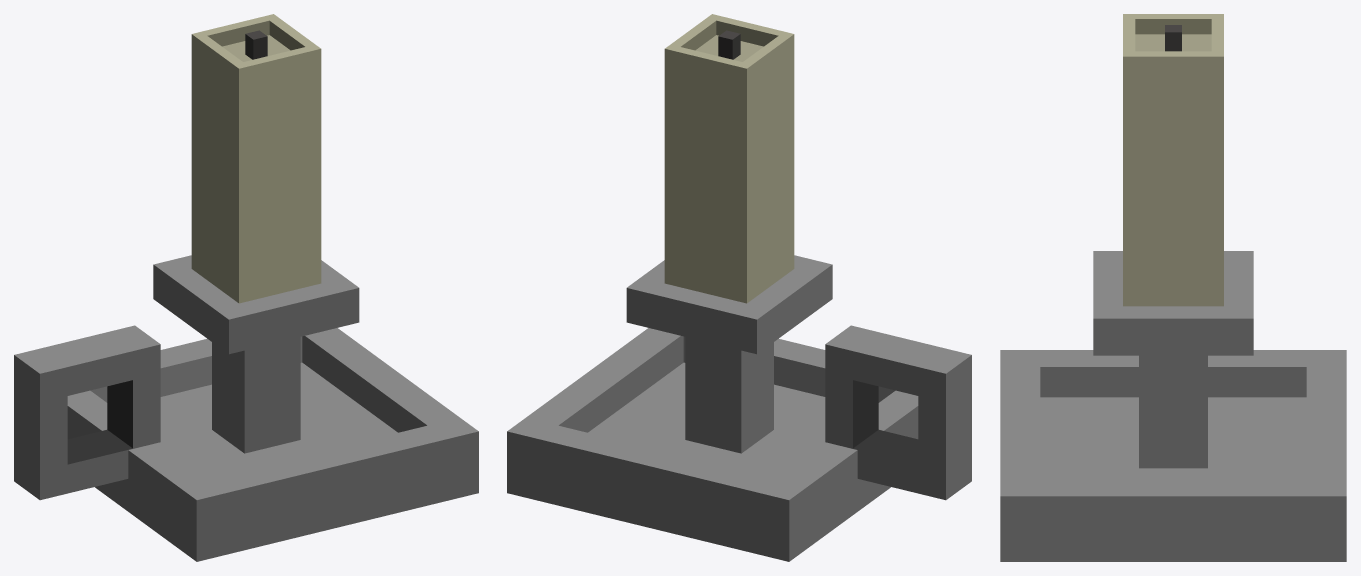
The model's file is AI_Item_CandleStick.fbx.
3 renders of one model, left to right at view 1: azimuth 30°, elevation 25°; view 2: azimuth 150°, elevation 25°; view 3: azimuth 270°, elevation 25°, orthographic. The views are drawn at different scales.
Visible parts, largest first — view 1: AI_Item_CandleStick; view 2: AI_Item_CandleStick; view 3: AI_Item_CandleStick.
Part boxes in pixels (bbox=[...]): AI_Item_CandleStick: bbox=[14, 14, 478, 561]; AI_Item_CandleStick: bbox=[507, 14, 971, 561]; AI_Item_CandleStick: bbox=[1000, 14, 1346, 561].
Size of the model in its own units: 0.5191 by 0.5796 by 0.3953.
